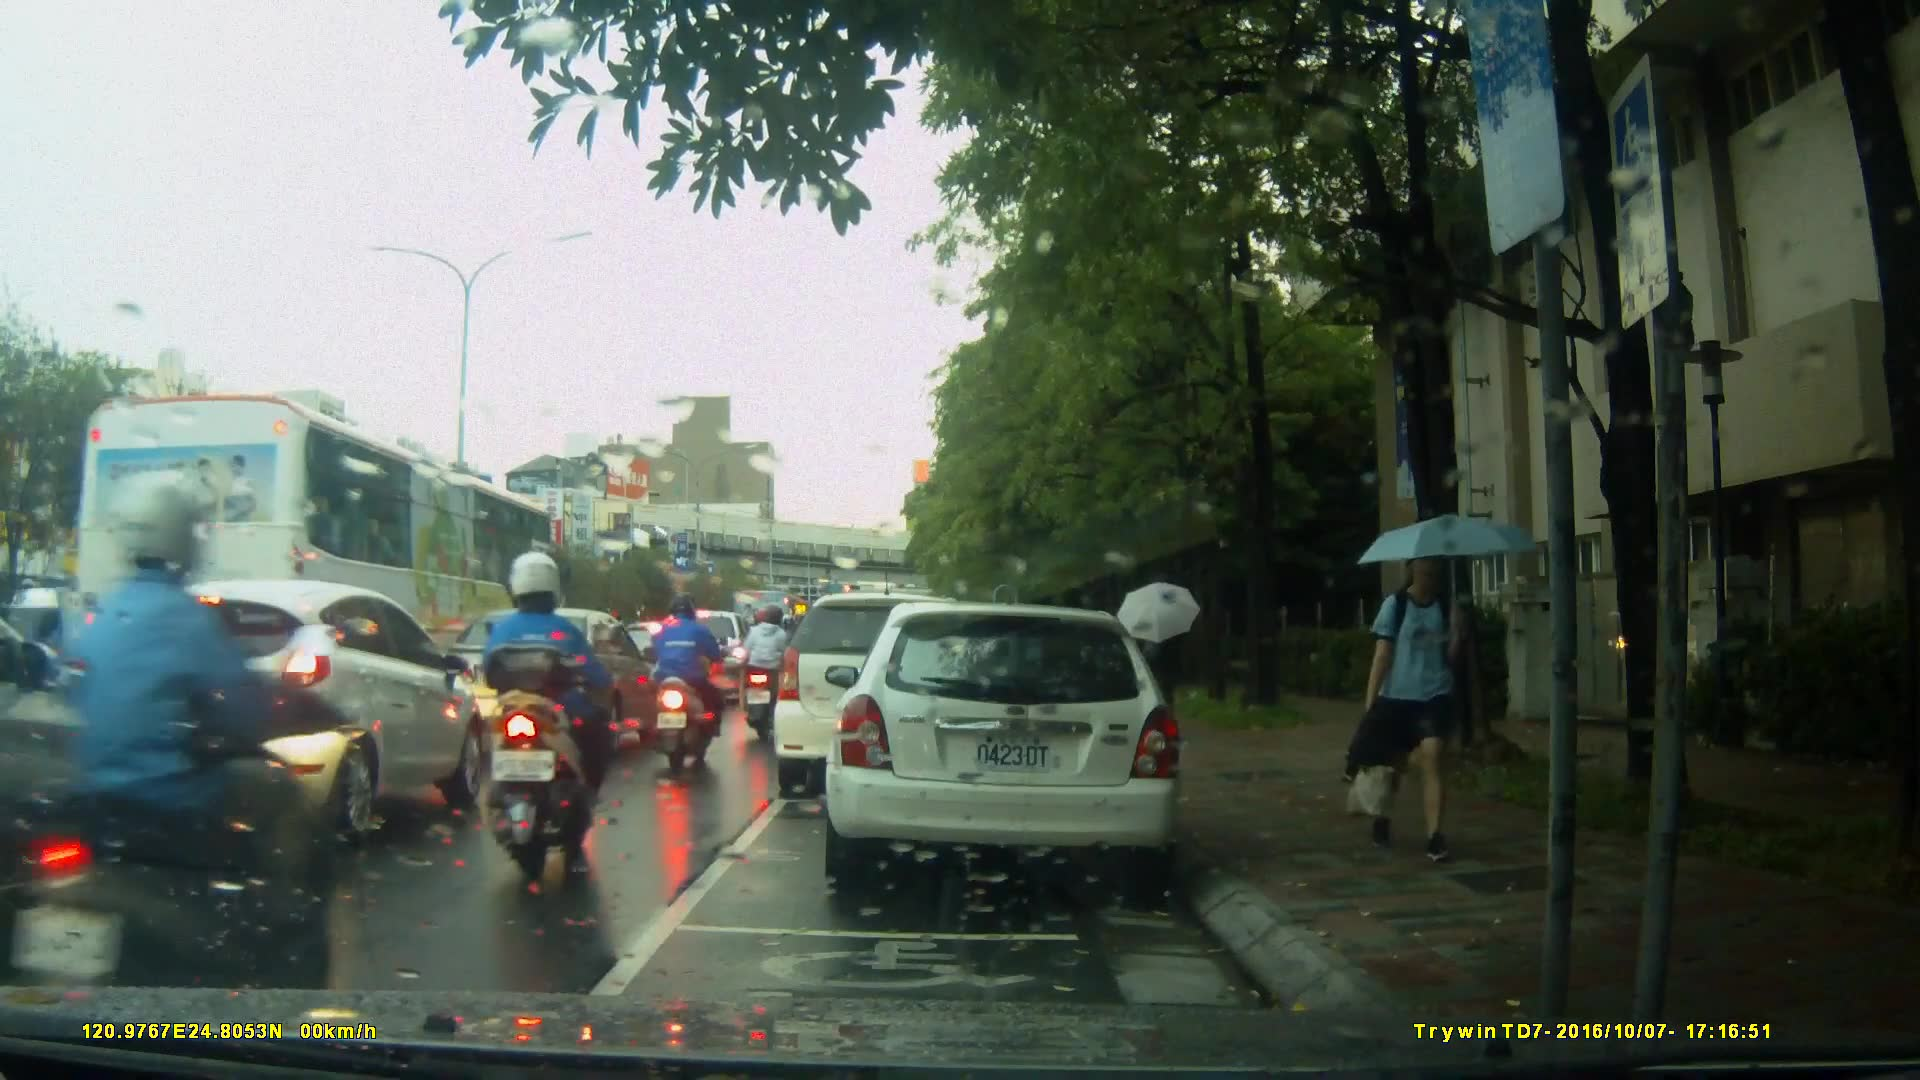pedestrian: (1344, 532, 1496, 863)
rider: (28, 470, 321, 1078), (479, 553, 620, 872), (647, 596, 728, 772), (746, 598, 805, 746)
vehicle: (75, 388, 563, 737), (835, 594, 1194, 898), (96, 576, 486, 846), (776, 590, 1026, 784), (420, 605, 664, 751), (1, 586, 155, 697), (610, 619, 722, 716)
